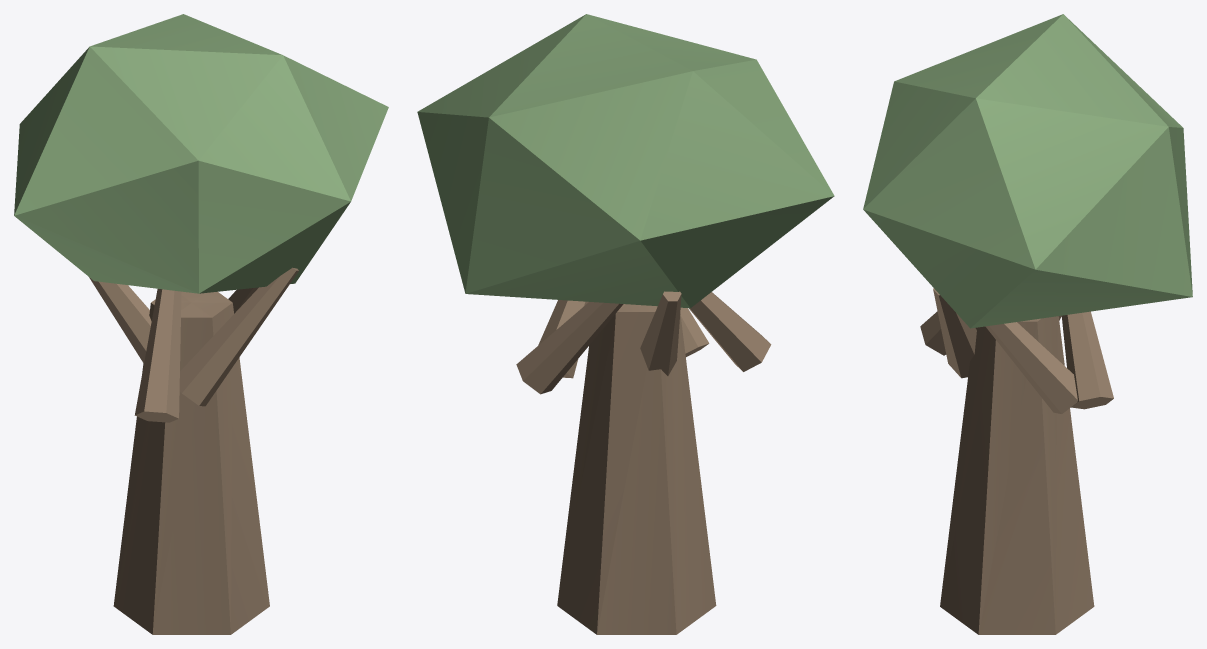
The picture shows the model from 3 angles, left to right: view 1: azimuth 30°, elevation 25°; view 2: azimuth 150°, elevation 25°; view 3: azimuth 270°, elevation 25°; orthographic projection. The views are drawn at different scales.
Parts seen in each view (by area): view 1: landmark.world_tree; view 2: landmark.world_tree; view 3: landmark.world_tree.
Boxes of the visible parts, bbox=[...] form: landmark.world_tree: bbox=[14, 14, 388, 634]; landmark.world_tree: bbox=[417, 14, 834, 634]; landmark.world_tree: bbox=[863, 14, 1192, 634].
Size of the model in its own units: 24.35 by 33.31 by 17.94.
